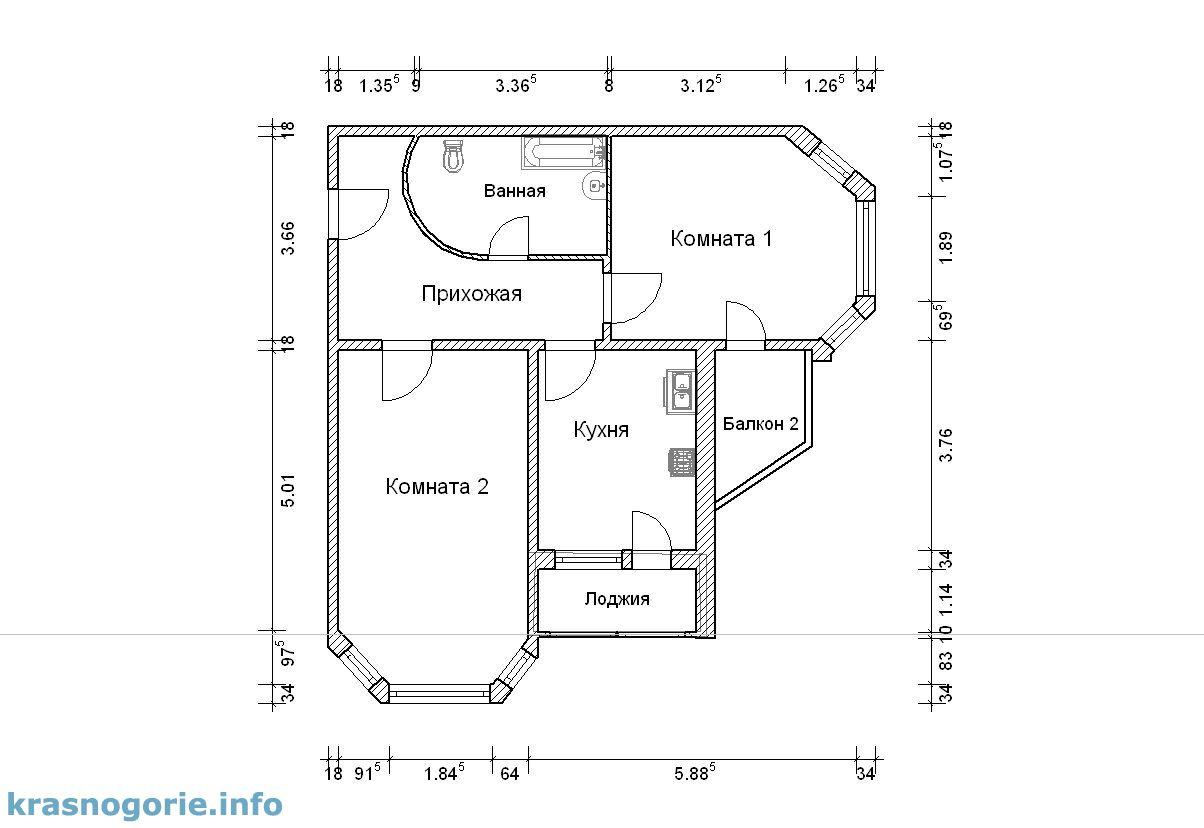balcony: (715, 351, 806, 504), (538, 570, 698, 633)
bathroom: (339, 135, 608, 341)
bedroom: (611, 135, 857, 342)
kitchen: (537, 351, 697, 550)
living_room: (337, 349, 529, 685)
